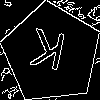K: (26, 28, 68, 80)
